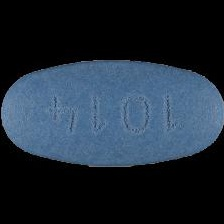21695-071: (0, 0, 224, 224)
